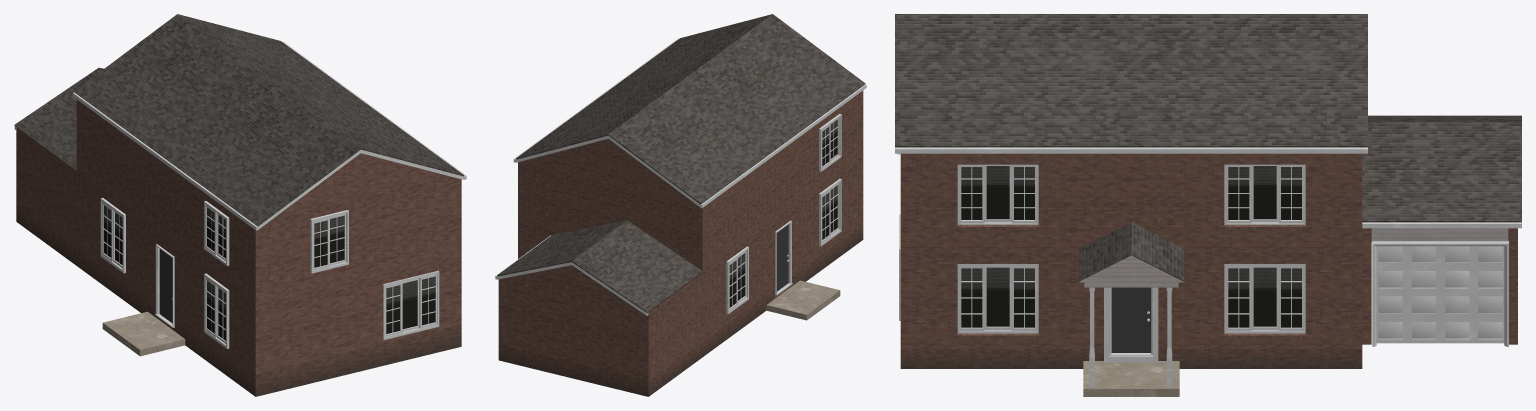
File: house-5.glb
The picture shows the model from 3 angles, left to right: view 1: azimuth 30°, elevation 25°; view 2: azimuth 150°, elevation 25°; view 3: azimuth 270°, elevation 25°; orthographic projection. The views are drawn at different scales.
Parts seen in each view (by area): view 1: House_5_col_V3; view 2: House_5_col_V3; view 3: House_5_col_V3.
Boxes of the visible parts, bbox=[...] form: House_5_col_V3: bbox=[14, 14, 466, 396]; House_5_col_V3: bbox=[495, 14, 866, 396]; House_5_col_V3: bbox=[895, 14, 1521, 396].
Bounding box in the file's own units: 9.32 × 6.64 × 12.99.
1 material, 1 textured.
